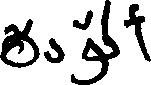X: (0, 14, 38, 72), (84, 5, 101, 84), (103, 0, 119, 81), (135, 0, 150, 66), (45, 33, 62, 67)
